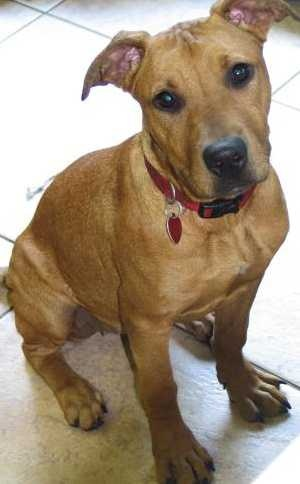Dog: (4, 6, 291, 456)
